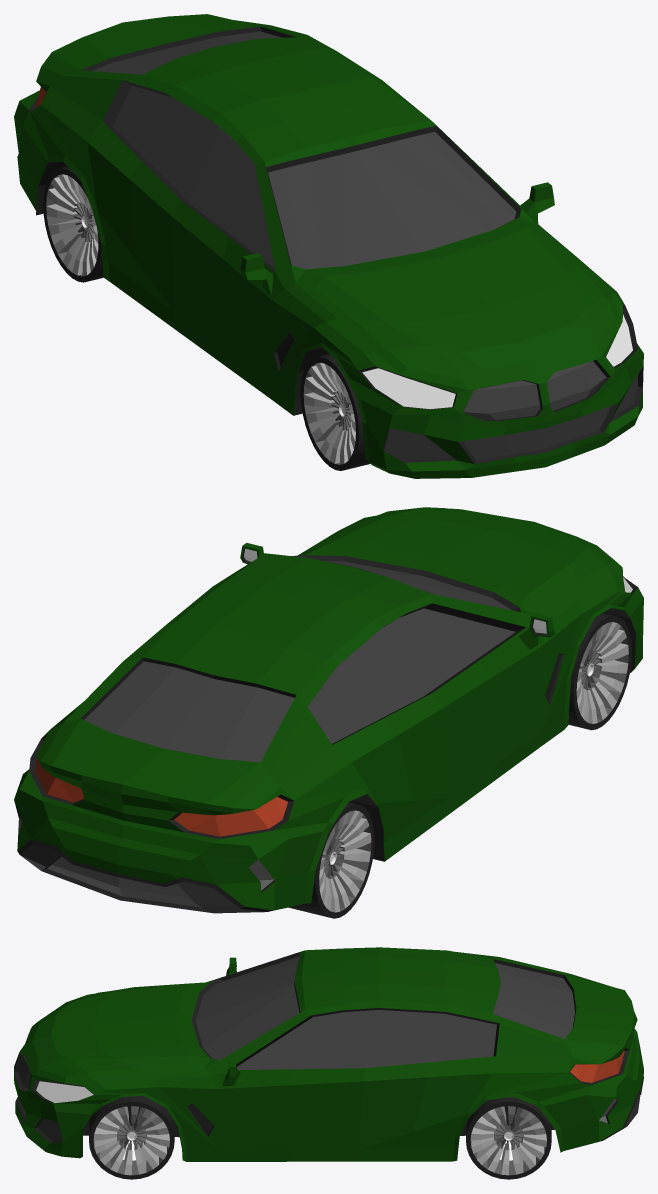
The model's file is bmwalpinab8gt.fbx.
3 renders of one model, top to bottom at view 1: azimuth 30°, elevation 25°; view 2: azimuth 150°, elevation 25°; view 3: azimuth 270°, elevation 25°, orthographic. The views are drawn at different scales.
Visible parts, largest first — view 1: GreenBody, FrontRight, BackRight; view 2: GreenBody, FrontRight, BackRight; view 3: GreenBody, FrontLeft, BackLeft.
Part boxes in pixels (left/top/right/bottom): GreenBody: left=14, top=14, right=643, bottom=478; FrontRight: left=300, top=354, right=370, bottom=470; BackRight: left=43, top=166, right=103, bottom=282; GreenBody: left=14, top=507, right=643, bottom=913; FrontRight: left=568, top=613, right=631, bottom=730; BackRight: left=288, top=802, right=374, bottom=918; GreenBody: left=14, top=947, right=643, bottom=1161; FrontLeft: left=89, top=1095, right=174, bottom=1179; BackLeft: left=466, top=1097, right=551, bottom=1179.
Size of the model in its own units: 2.12 by 5.11 by 1.44.
